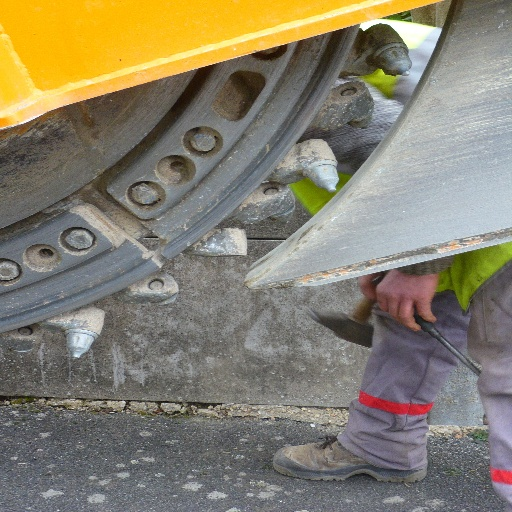hand: (357, 269, 472, 340), (359, 271, 383, 303)
